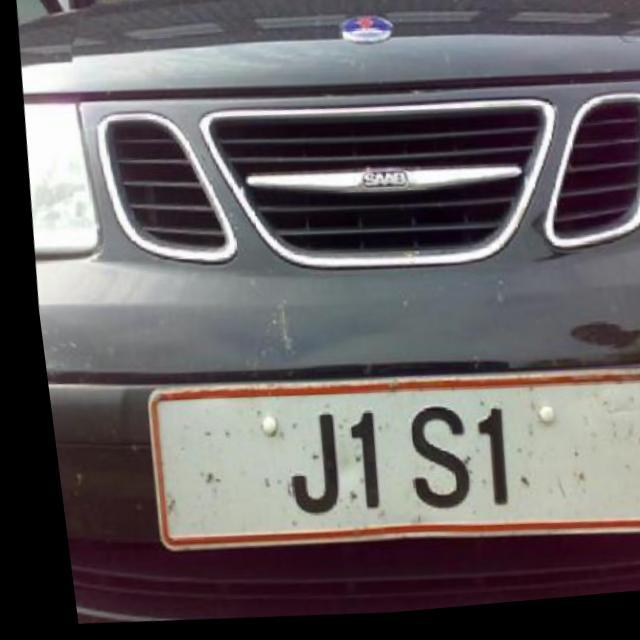license_plate: (127, 351, 640, 582)
